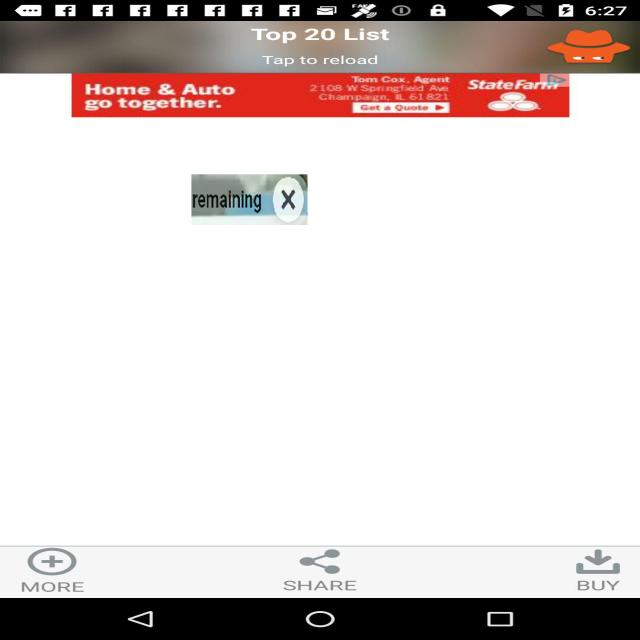misdirection: (192, 174, 308, 225)
